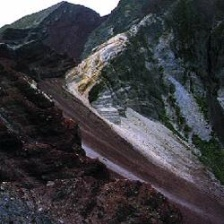neutral: (8, 6, 218, 213)
